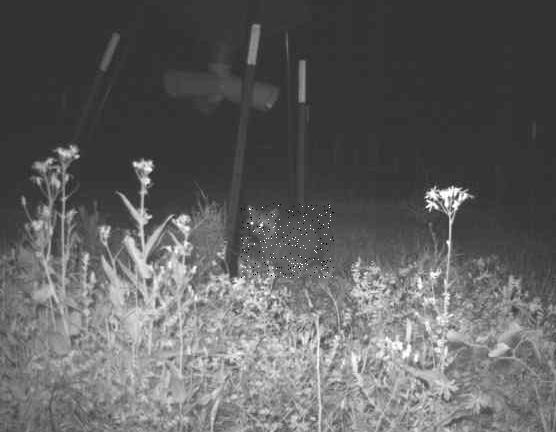Raccoon: (240, 203, 333, 278)
